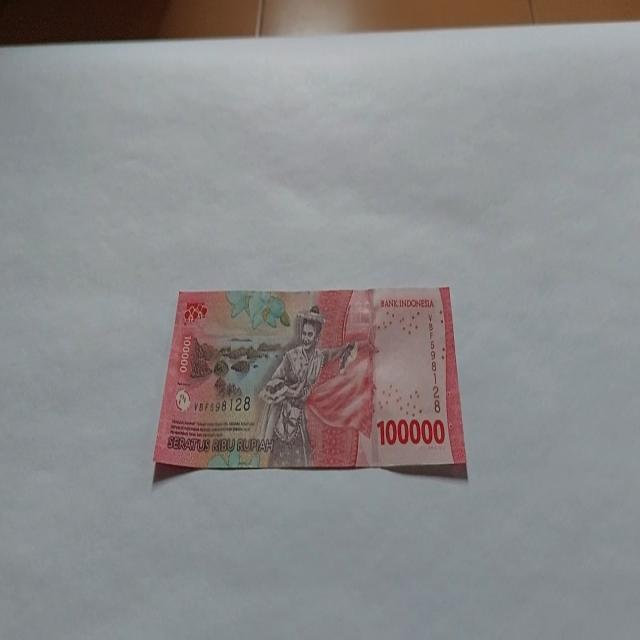seratus ribu rupiah: (152, 284, 468, 476), (252, 304, 358, 468)
